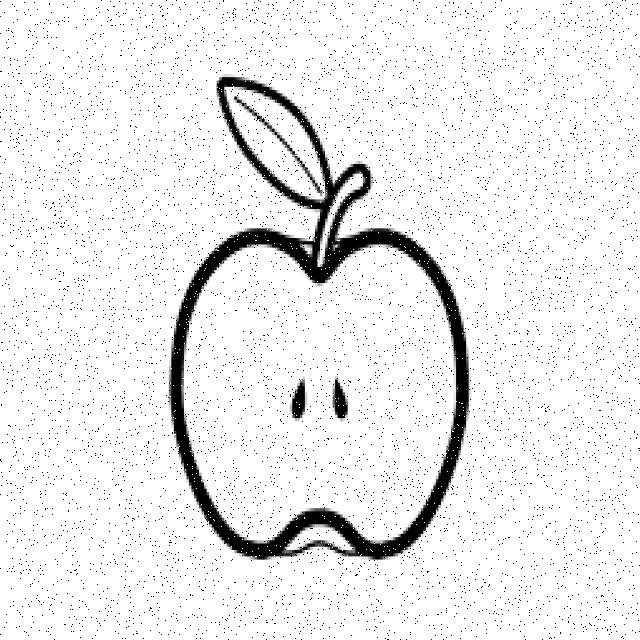Apple: (170, 165, 473, 562)
